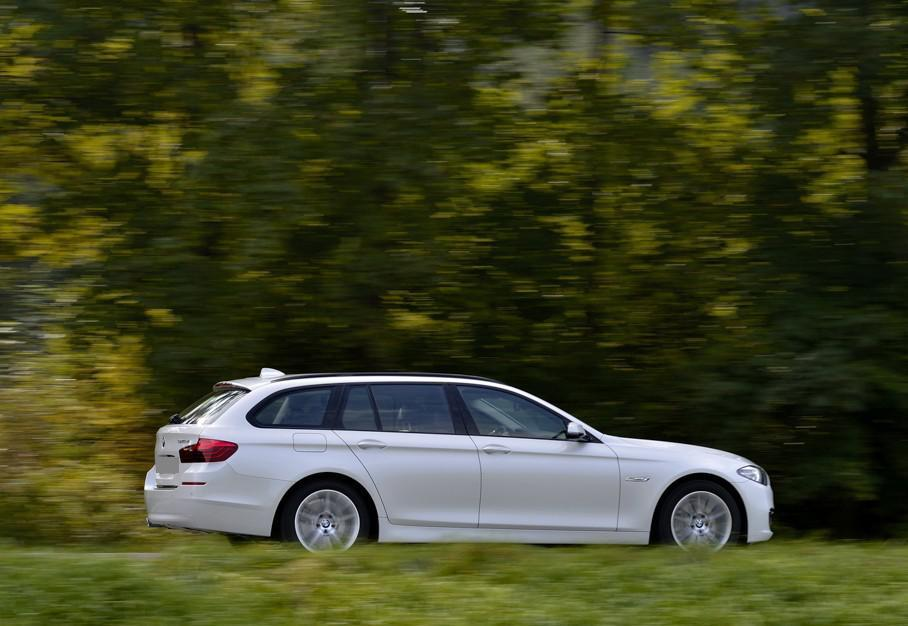Wagon: (143, 366, 777, 562)
